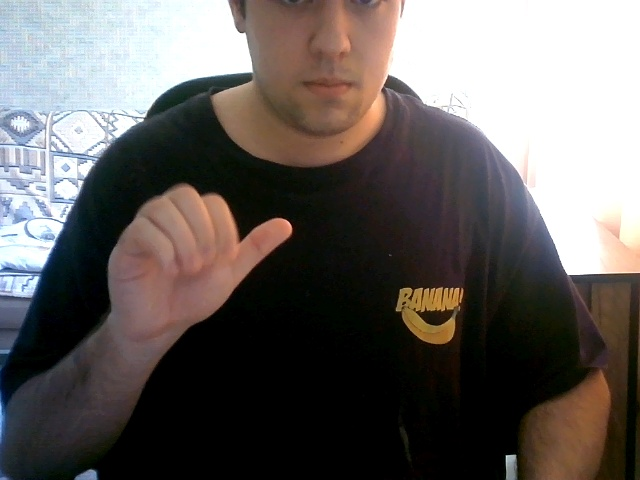goodbye: (92, 178, 336, 344)
